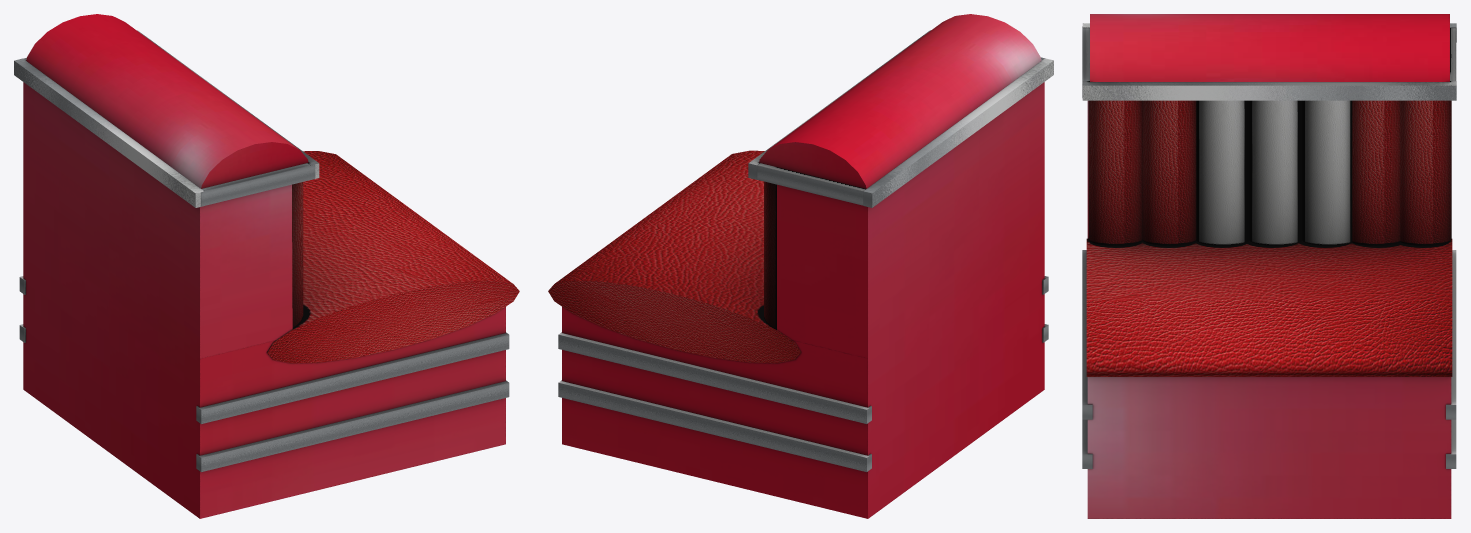
File: SofaInHub.fbx
3 views of the same model, side by side, from view 1: azimuth 30°, elevation 25°; view 2: azimuth 150°, elevation 25°; view 3: azimuth 270°, elevation 25° (orthographic). The views are drawn at different scales.
Parts seen in each view (by area): view 1: pCube1, pCylinder9, pCylinder8, pCube4, pCube13, pCube8, pCube7, pCylinder12; view 2: pCube1, pCylinder9, pCylinder8, pCube12, pCube11, pCube8, pCube9, pCylinder14; view 3: pCube1, pCylinder9, pCylinder8, pCylinder2, pCylinder6, pCylinder12, pCylinder10, pCylinder14, pCylinder11, pCube10, pCylinder13, pCube4 (+2 smaller).
Part boxes in pixels (box(x1,y1,x2,y2)): pCube1: box(23, 82, 505, 518); pCylinder9: box(267, 151, 519, 363); pCylinder8: box(26, 14, 308, 188); pCube4: box(196, 332, 509, 424); pCube13: box(196, 380, 509, 472); pCube8: box(14, 58, 203, 207); pCube7: box(201, 163, 315, 206); pCylinder12: box(292, 182, 303, 327); pCube1: box(562, 82, 1044, 518); pCylinder9: box(548, 150, 800, 363); pCylinder8: box(759, 14, 1041, 188); pCube12: box(558, 380, 871, 471); pCube11: box(558, 332, 871, 423); pCube8: box(863, 58, 1053, 207); pCube9: box(757, 163, 865, 205); pCylinder14: box(764, 181, 776, 330); pCube1: box(1087, 100, 1451, 518); pCylinder9: box(1086, 238, 1452, 376); pCylinder8: box(1090, 14, 1449, 81); pCylinder2: box(1142, 100, 1196, 245); pCylinder6: box(1196, 100, 1249, 245); pCylinder12: box(1089, 100, 1142, 245); pCylinder10: box(1249, 100, 1302, 245); pCylinder14: box(1400, 100, 1451, 245); pCylinder11: box(1302, 100, 1352, 245); pCube10: box(1082, 81, 1456, 100); pCylinder13: box(1352, 100, 1400, 245); pCube4: box(1082, 250, 1092, 419).
Bounding box in the file's own units: 4.26 × 4.5 × 4.12.
